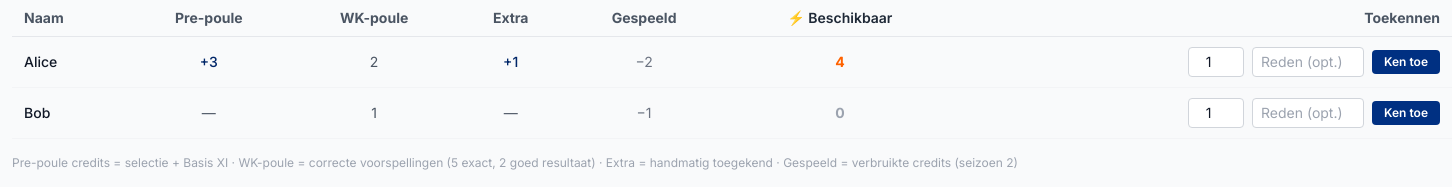
AdminFlappyCredits › shows "Fout" when error response has no error field
The width and height of the screenshot is (1452, 187).
Expected: the text "Alice" is shown, [12, 36, 126, 88]
What coordinates should you click on to do the following:
click the button "Ken toe" in the row of "Alice"
I would click on:
 (1406, 62)
Its box is [1372, 50, 1440, 74].
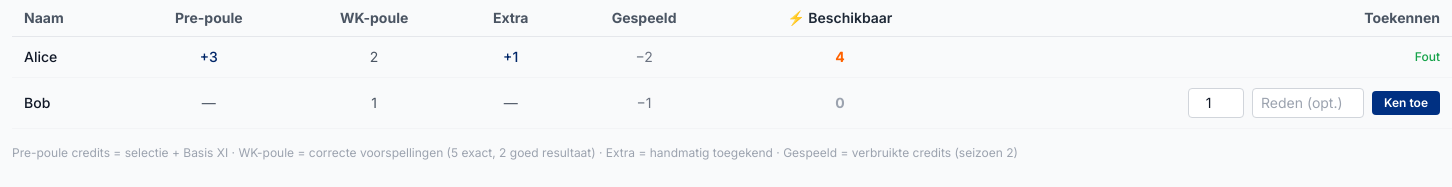
Expected: the text "Fout" is shown, [1415, 49, 1440, 64]
